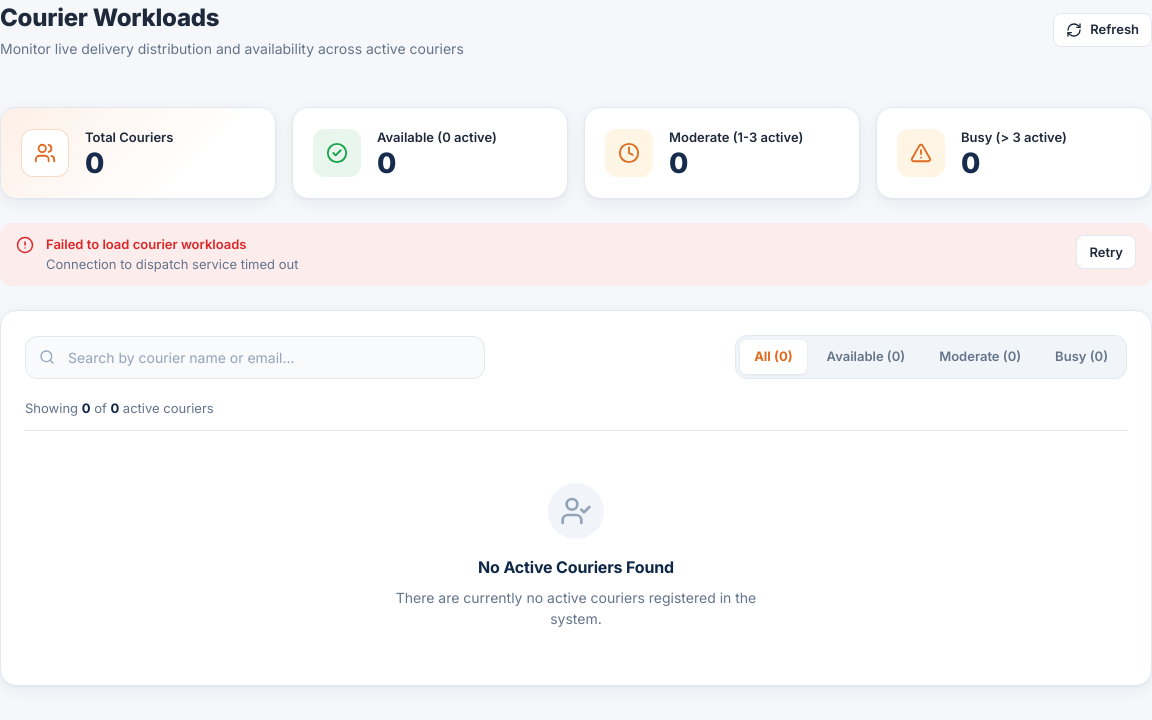
Scenario: Courier Workload Page & WorkloadCard - Component Tests › 5. Displays error banner when fetching workloads fails and allows retry
Expected: the text "Failed to load courier workloads" is shown, [46, 236, 246, 252]
Expected: the text "Connection to dispatch service timed out" is shown, [46, 256, 298, 272]
Click the button "Retry" at point(1106, 252), box [1076, 235, 1136, 269]
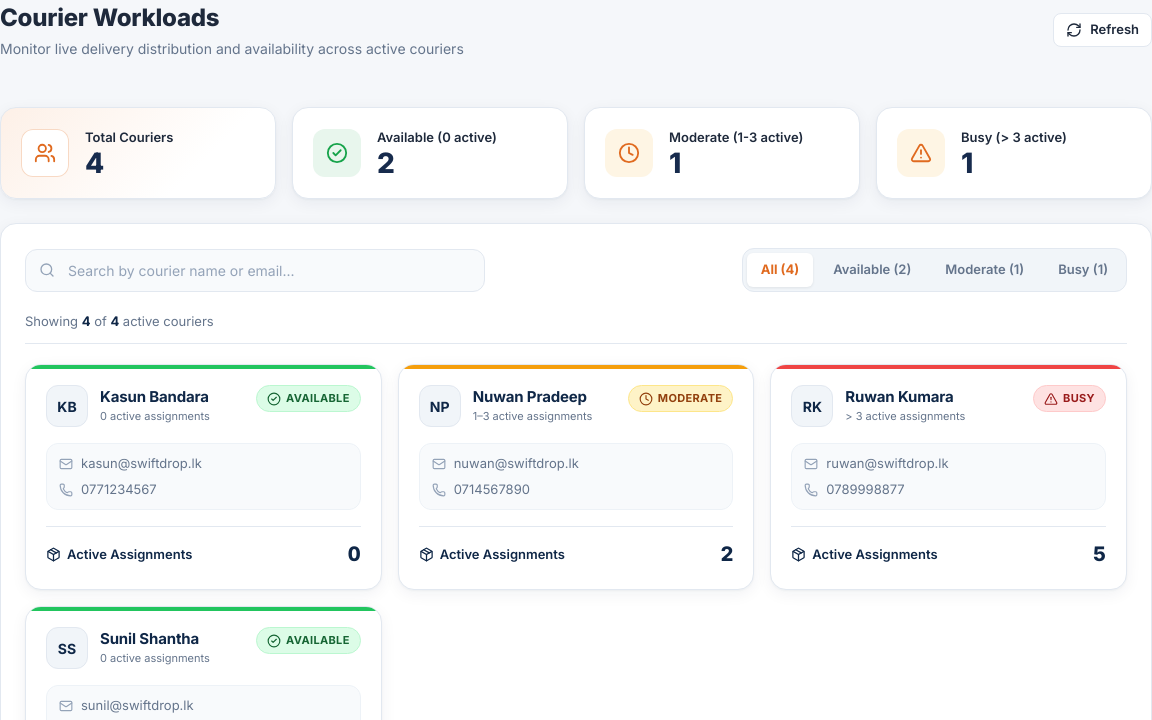
Result: the heading "Kasun Bandara" is shown at [100, 388, 210, 406]
Result: the text "Failed to load courier workloads" is gone
